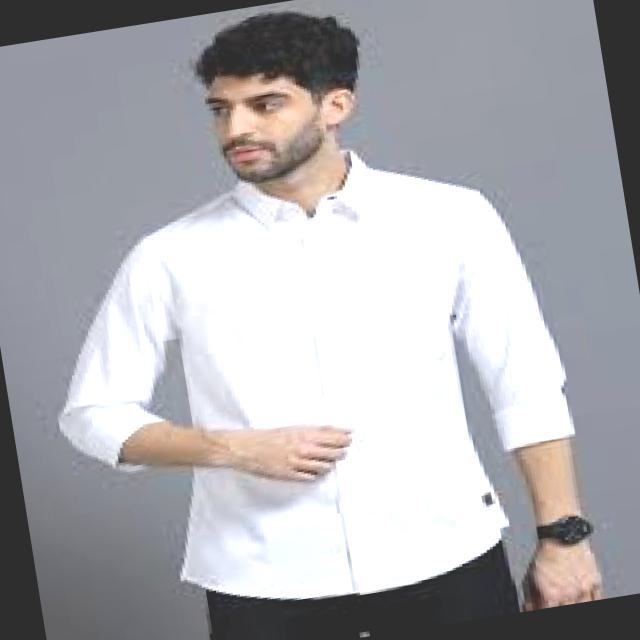face: (205, 76, 331, 183)
lower-wear: (206, 540, 519, 639)
top-wear: (59, 149, 575, 599)
